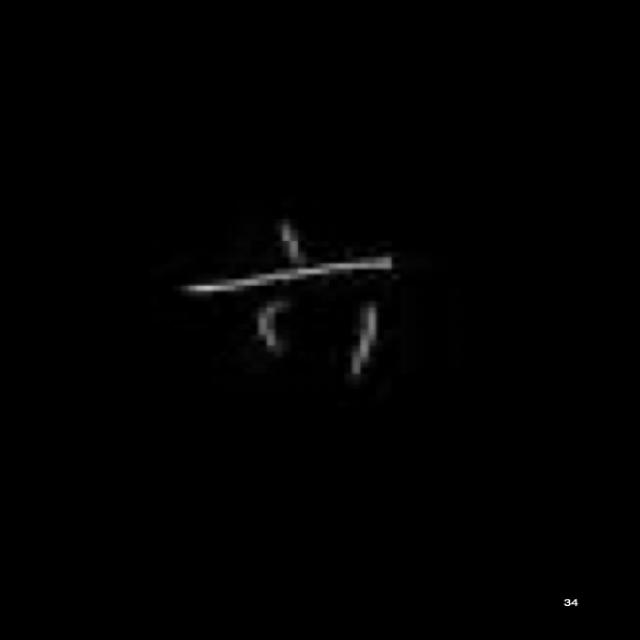6 -six-: (167, 209, 406, 387)
